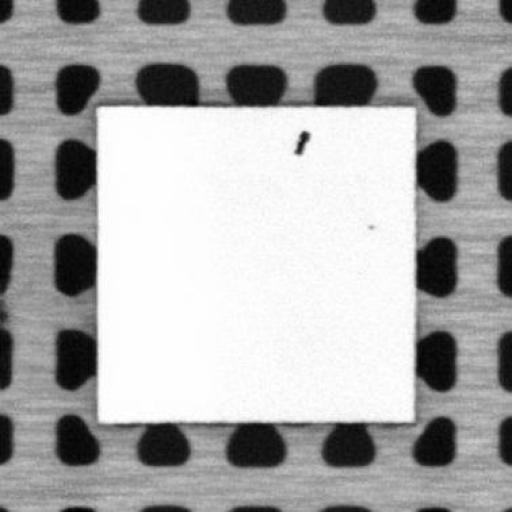DIE_INK: (288, 127, 312, 155), (363, 218, 377, 231)
